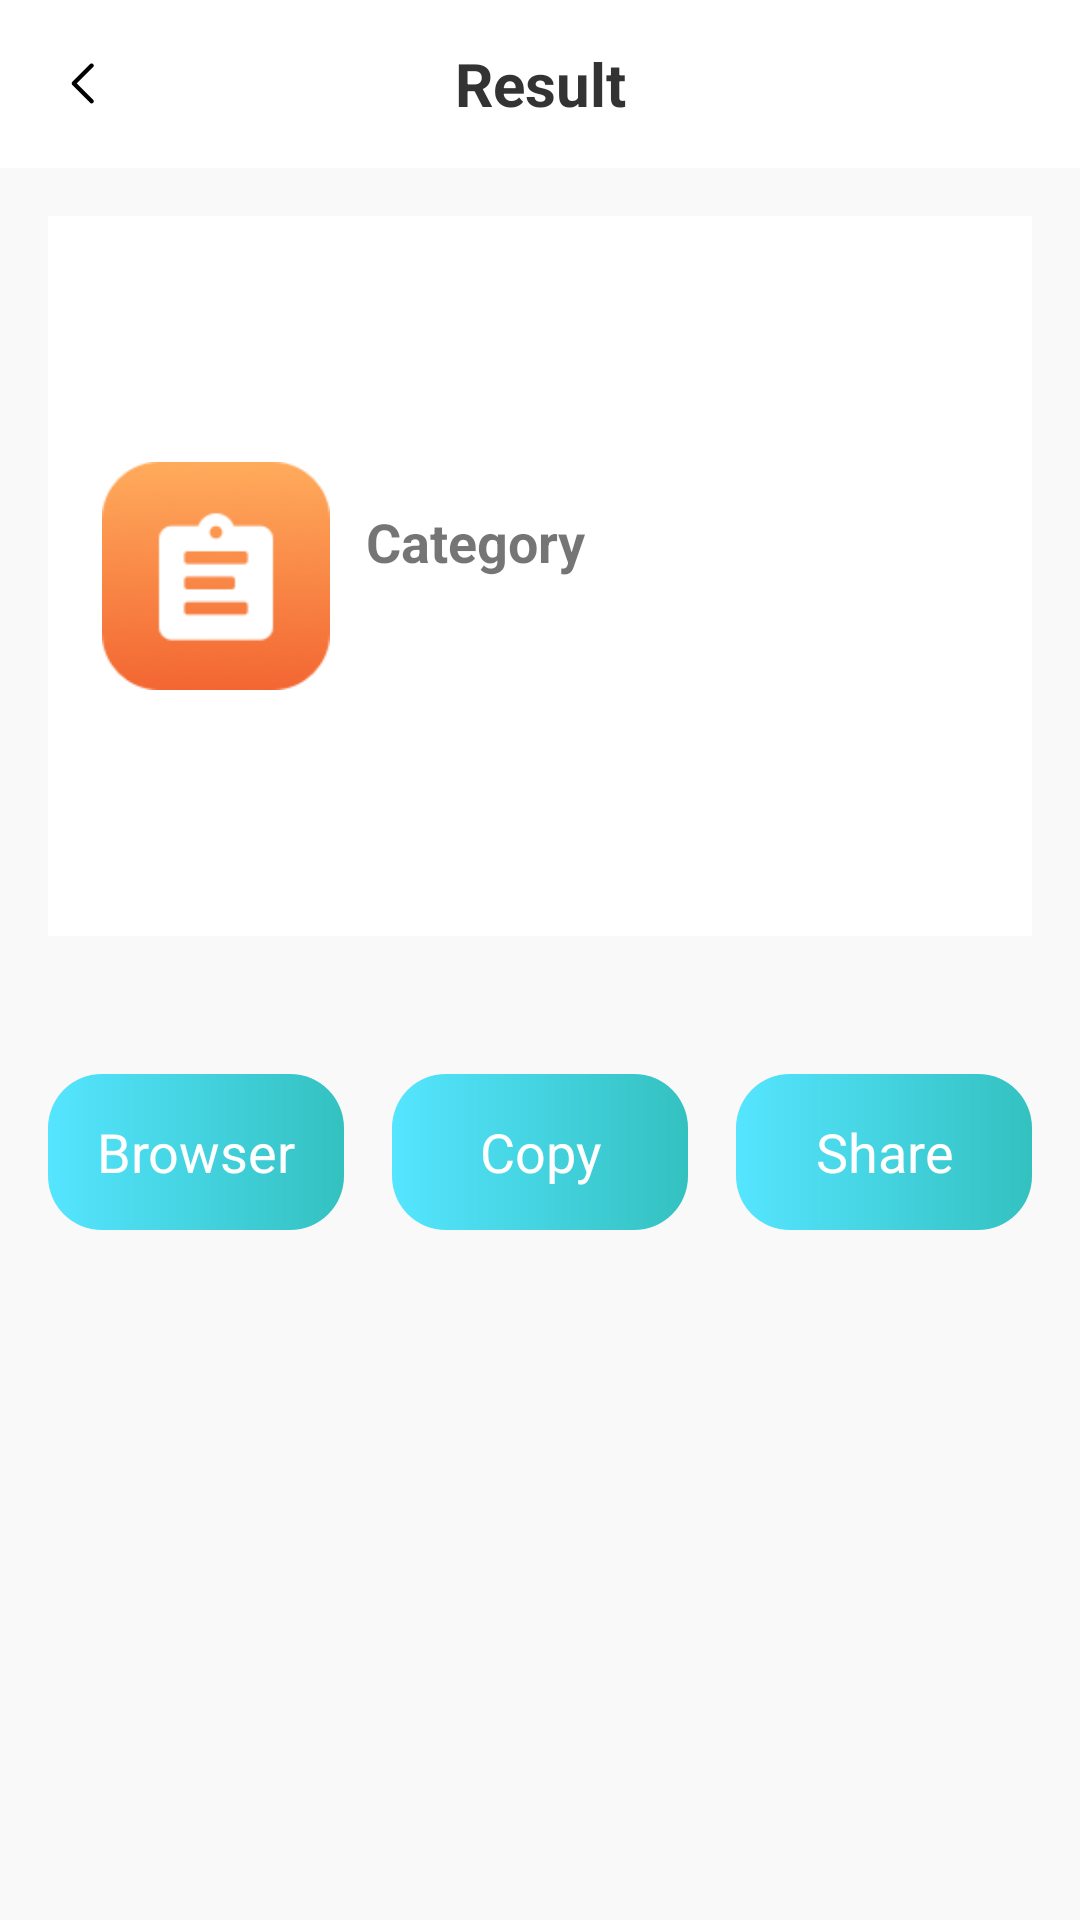

Locate icon controls on the screen. Image size 1080*1920, boxes as BBox(x1, y1, x2, y2).
back: BBox(71, 63, 94, 104)
home clipboard: BBox(102, 462, 330, 690)
